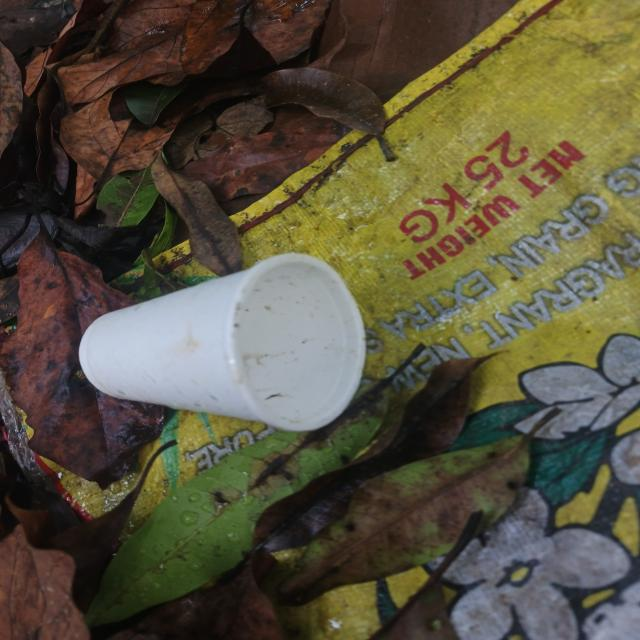plastic: (73, 246, 393, 444)
